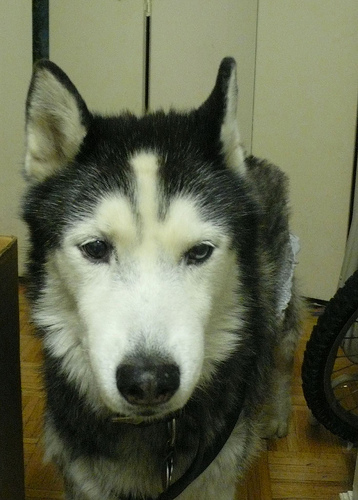dog: (20, 57, 296, 498)
